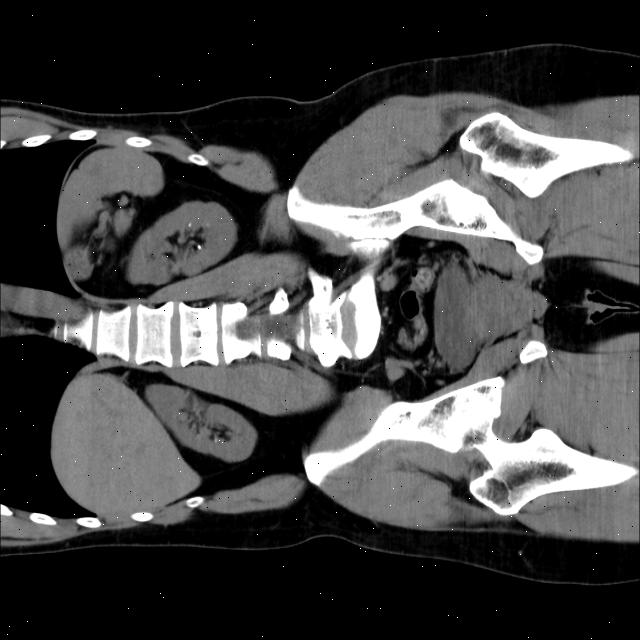kidneystone: (191, 245, 199, 251), (188, 224, 191, 227)
